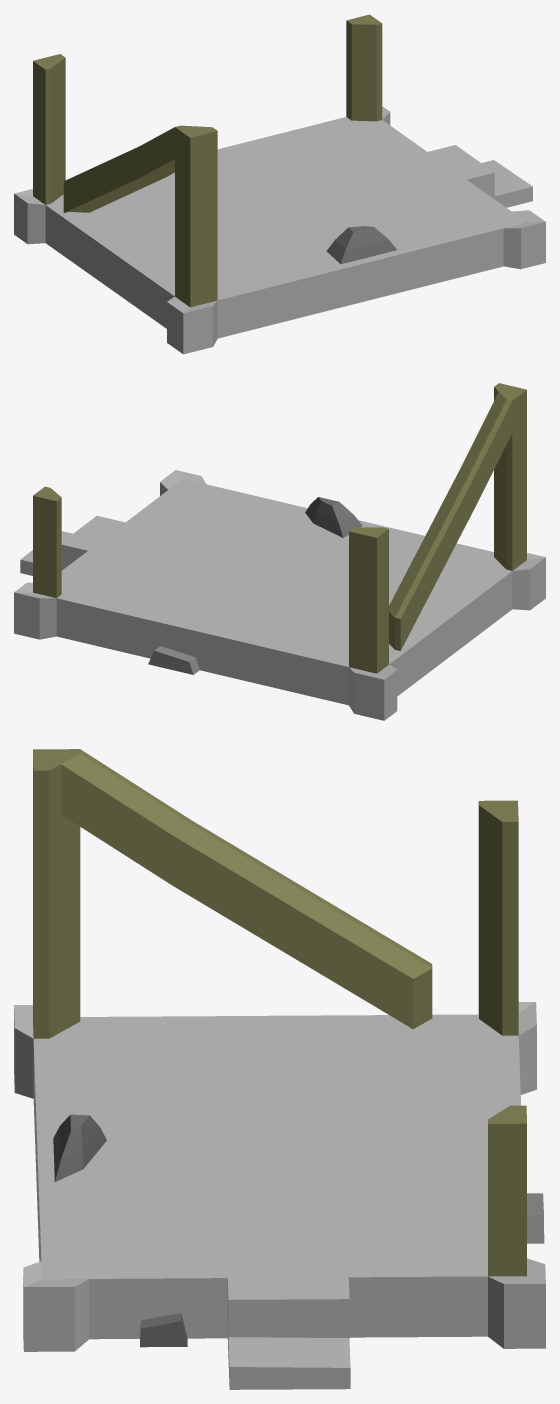
Rendered from brokenhouse.fbx.
3 renders of one model, top to bottom at view 1: azimuth 30°, elevation 25°; view 2: azimuth 150°, elevation 25°; view 3: azimuth 270°, elevation 25°, orthographic. The views are drawn at different scales.
Parts seen in each view (by area): view 1: destroyedhouse; view 2: destroyedhouse; view 3: destroyedhouse.
Boxes of the visible parts, x1,y1,x2,y2 form: destroyedhouse: (14, 14, 545, 354); destroyedhouse: (14, 383, 545, 720); destroyedhouse: (14, 749, 545, 1389).
Bounding box in the file's own units: 8 × 3.78 × 5.52.
